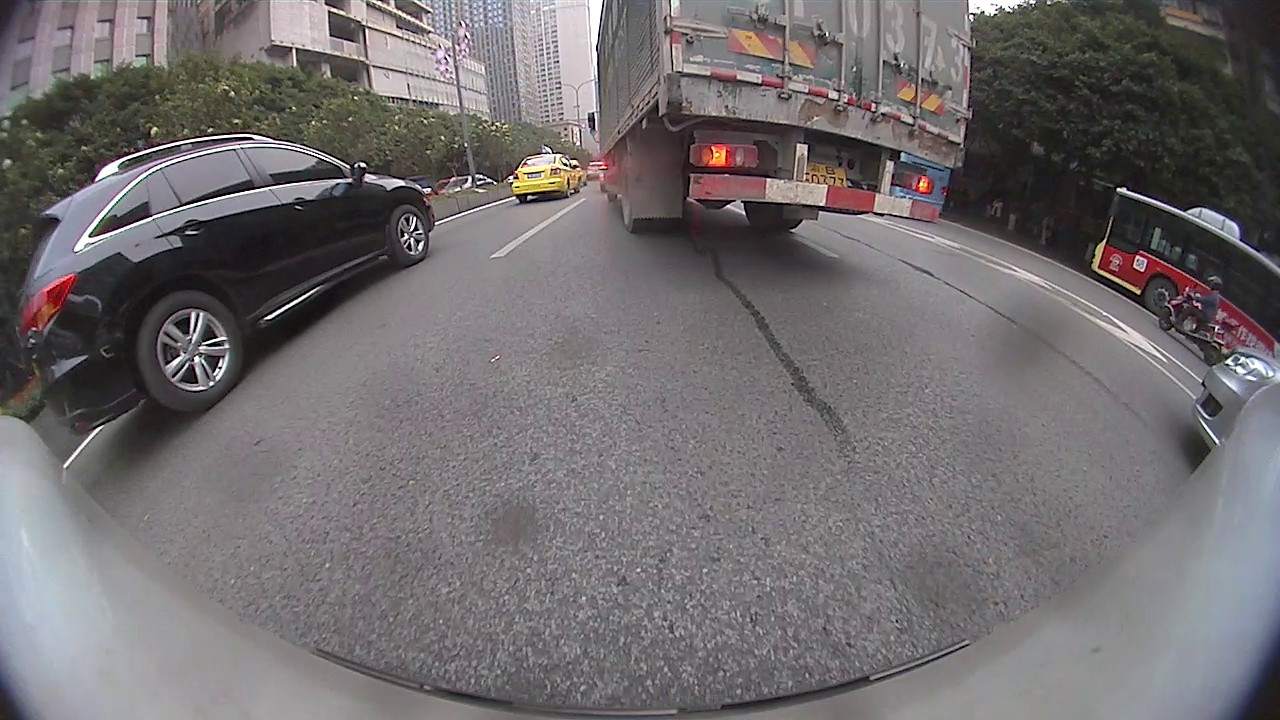bus: (1089, 182, 1274, 359)
car: (18, 134, 440, 437), (1182, 345, 1274, 451), (509, 151, 583, 203)
front: (383, 202, 431, 268), (1140, 273, 1182, 319)
rear: (134, 287, 247, 413)
rider: (1157, 272, 1239, 362)
truck: (585, 2, 973, 237)
